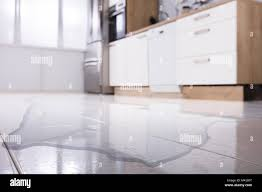Wet-floor: (5, 105, 237, 159)
